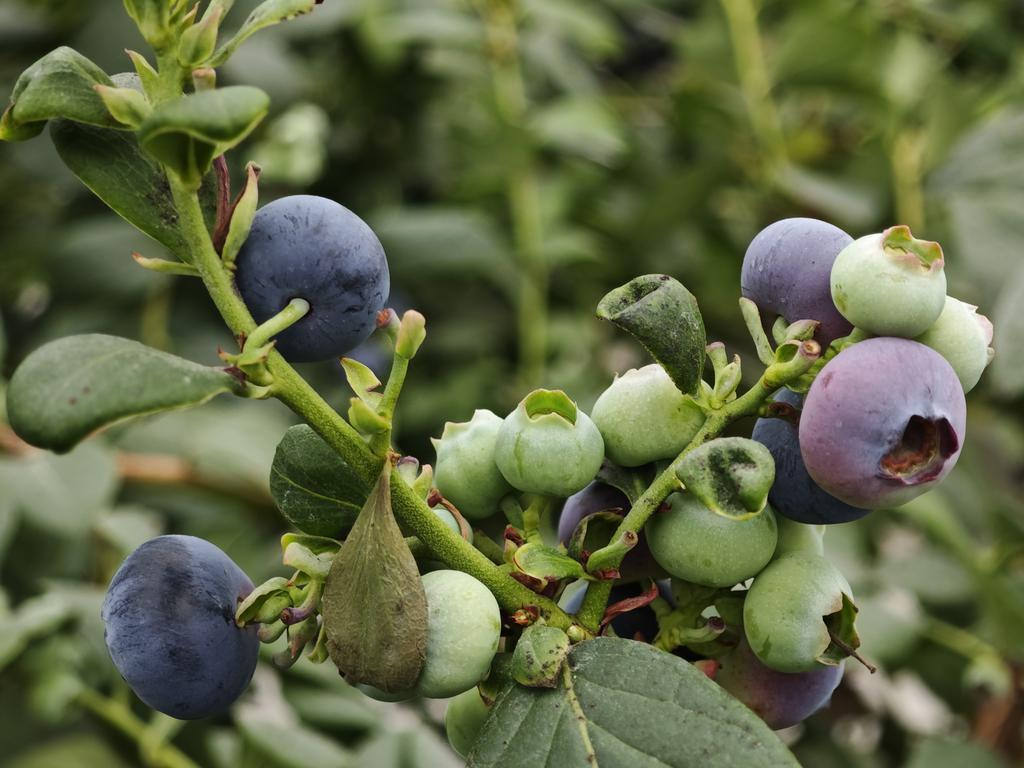RipeBlueBerry: (240, 193, 393, 366)
Semi-RipeBlueBerry: (99, 529, 261, 720), (805, 340, 965, 504)
UnripeBlueBerry: (742, 550, 861, 669), (830, 222, 949, 331), (497, 385, 605, 491)
